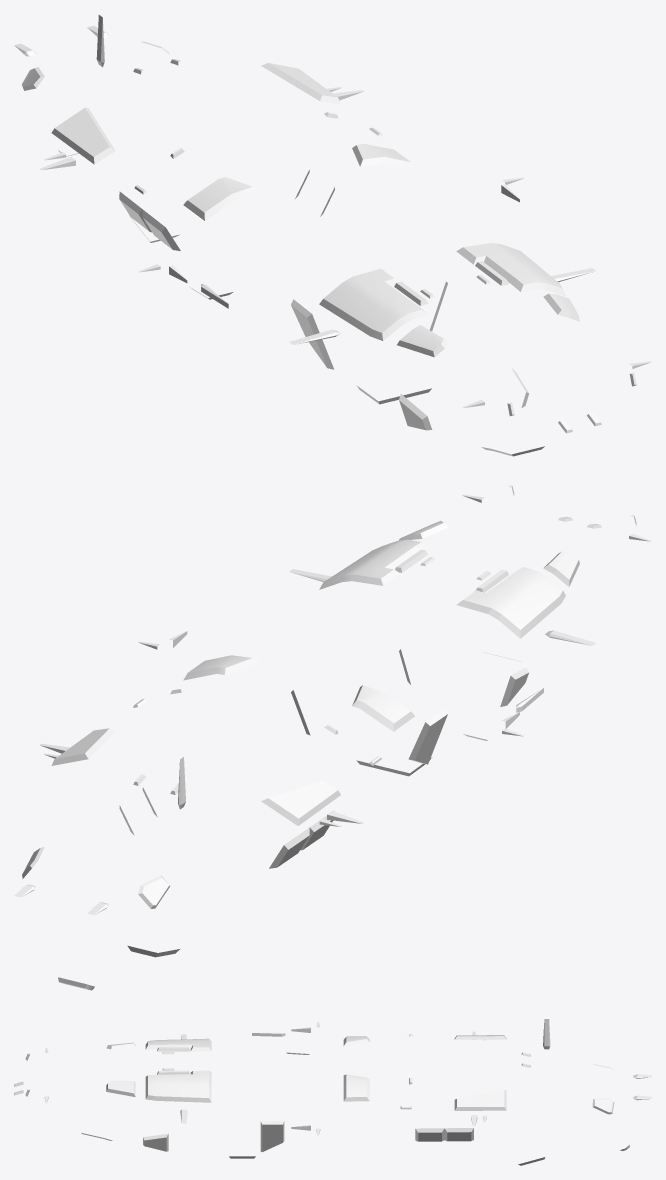
Rendered from hgn_cf_assa_01_t4.glb.
The picture shows the model from 3 angles, top to bottom: view 1: azimuth 30°, elevation 25°; view 2: azimuth 150°, elevation 25°; view 3: azimuth 270°, elevation 25°; orthographic projection. The views are drawn at different scales.
Parts seen in each view (by area): view 1: hgn_assault_frigate_01_t4_LOD0; view 2: hgn_assault_frigate_01_t4_LOD0; view 3: hgn_assault_frigate_01_t4_LOD0.
Boxes of the visible parts, left/top/right/bottom form: hgn_assault_frigate_01_t4_LOD0: left=14, top=15, right=651, bottom=456; hgn_assault_frigate_01_t4_LOD0: left=14, top=485, right=651, bottom=990; hgn_assault_frigate_01_t4_LOD0: left=14, top=1019, right=651, bottom=1165.
Size of what is drawn, in the model's own units: 1.61 by 0.8698 by 3.83.
1 material, 1 textured.
